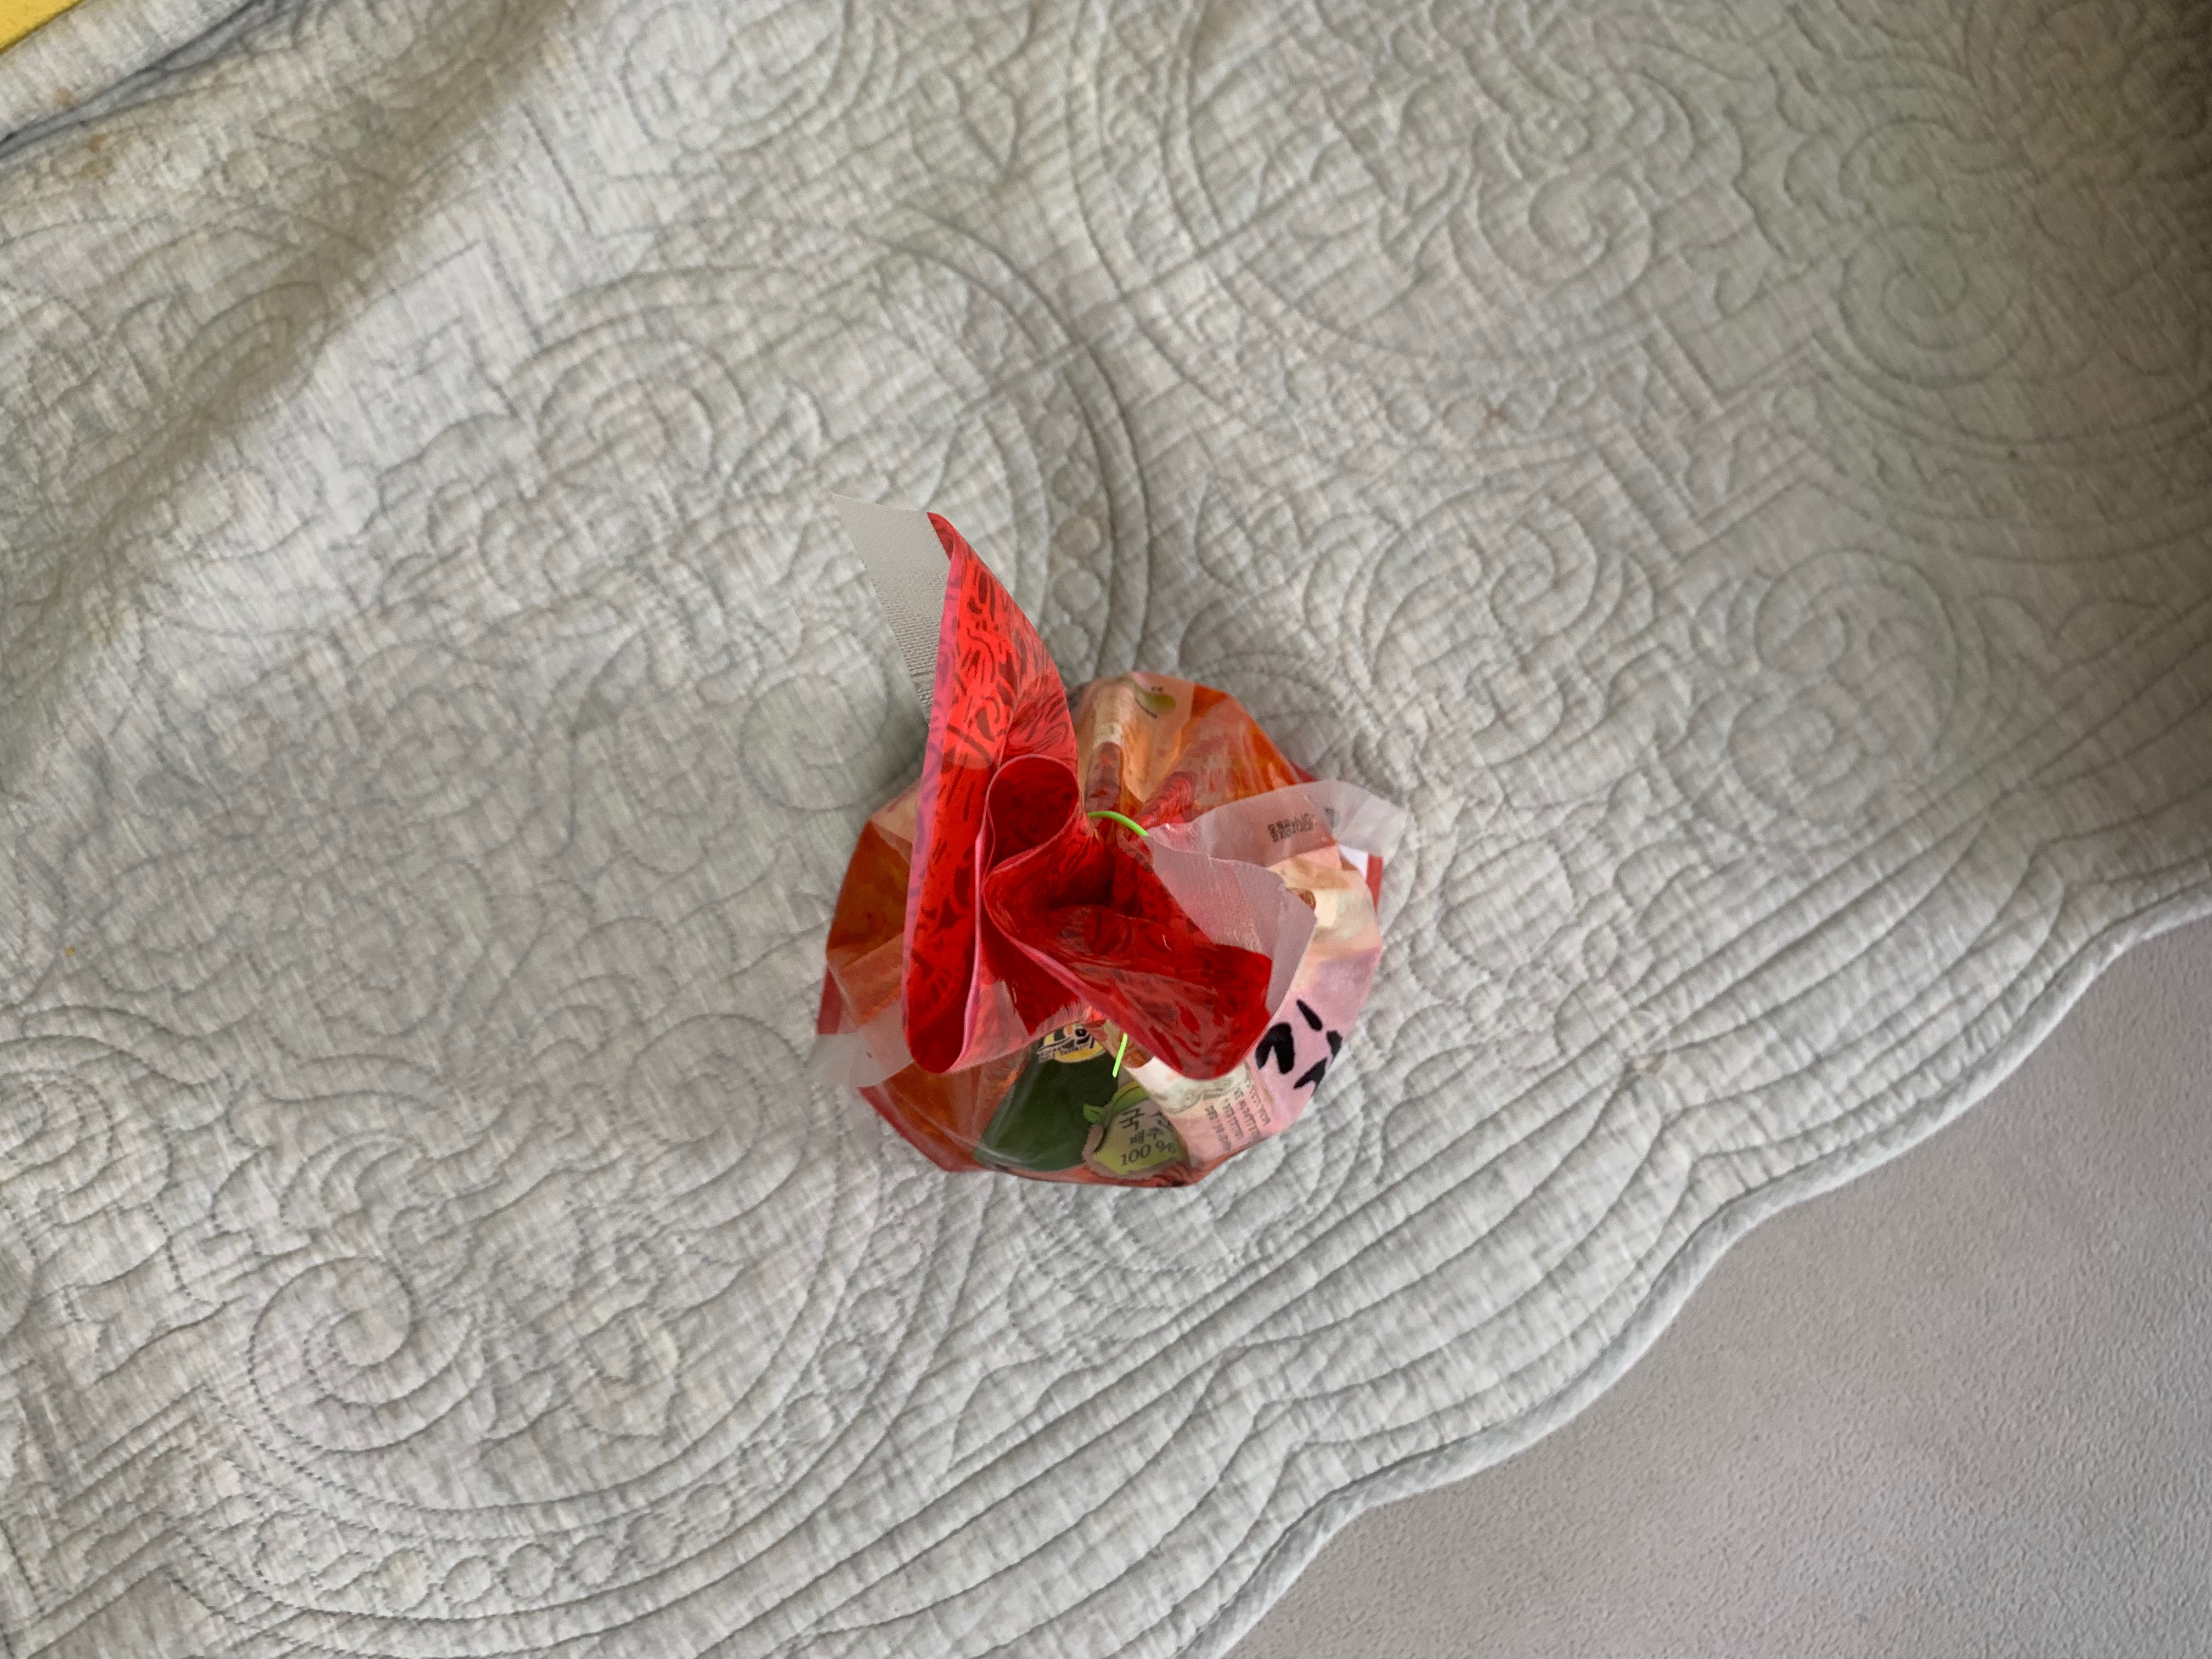kimchi: (820, 523, 1386, 1187)
